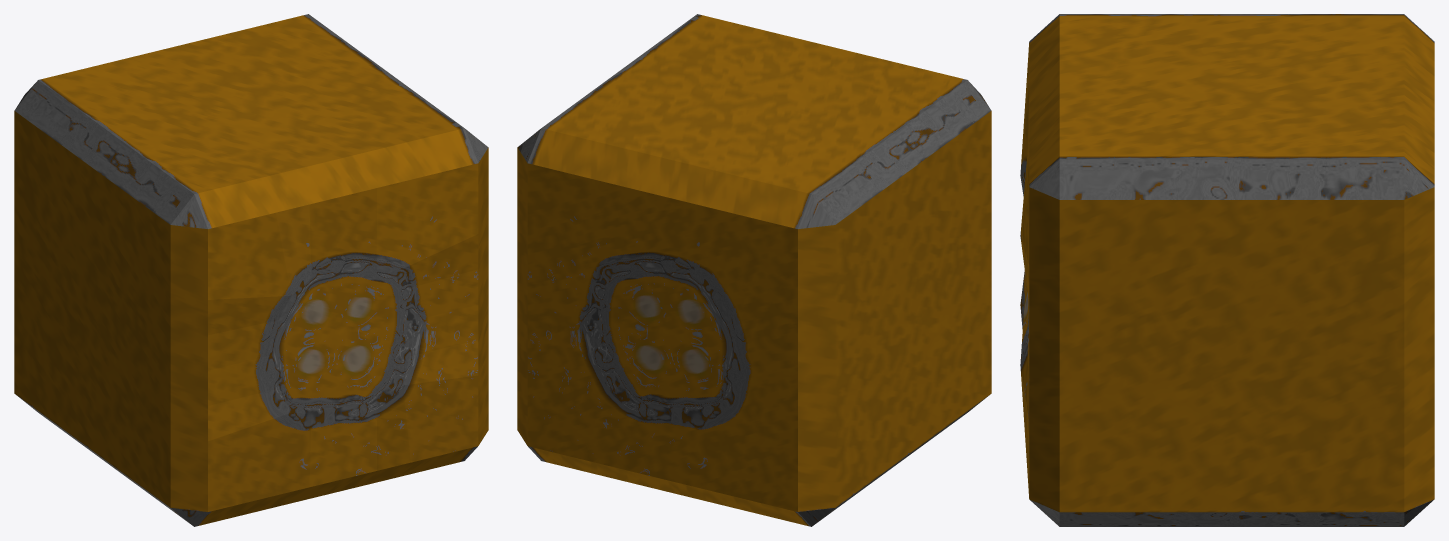
Rendered from pipe_unmove_frame.fbx.
3 renders of one model, left to right at view 1: azimuth 30°, elevation 25°; view 2: azimuth 150°, elevation 25°; view 3: azimuth 270°, elevation 25°, orthographic. The views are drawn at different scales.
Visible parts, largest first — view 1: Cube.001; view 2: Cube.001; view 3: Cube.001.
Part boxes in pixels (<box>): Cube.001: <box>14,14,488,526</box>; Cube.001: <box>517,14,991,526</box>; Cube.001: <box>1020,14,1434,526</box>.
Bounding box in the file's own units: 217 × 217 × 221.
